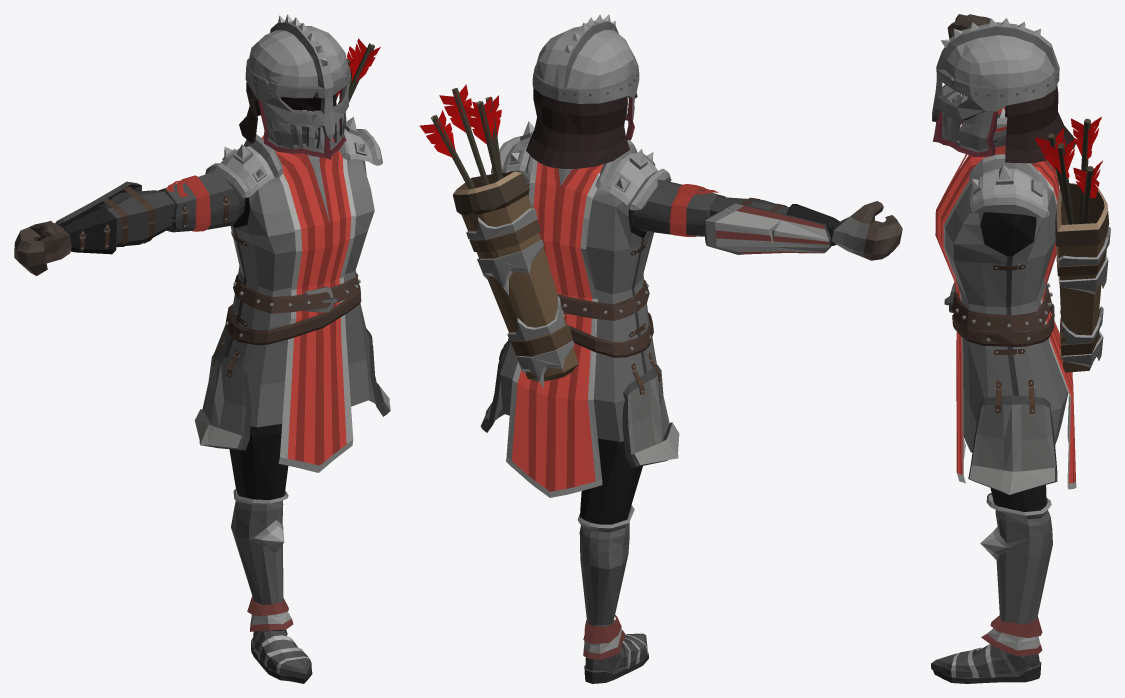
File: basicArmorFemale.glb
3 renders of one model, left to right at view 1: azimuth 30°, elevation 25°; view 2: azimuth 150°, elevation 25°; view 3: azimuth 270°, elevation 25°, orthographic. The views are drawn at different scales.
Visible parts, largest first — view 1: basicKnightArmorBody, basicKnightArmorHelmet, basicKnightArmorLowerLeg, basicKnightArmorLowerArm, basicKnightArmorBody.001, basicKnightArmorUpperArm, basicKnightArmorUpperLeg, KnightShoe, basicKnightArmorHandArm, basicKnightArmorBelt.001, basicKnightArmorBelt.002, basicQuiver; view 2: basicKnightArmorBody, basicQuiver, basicKnightArmorHelmet, basicKnightArmorLowerArm, basicKnightArmorLowerLeg, basicKnightArmorBody.001, basicKnightArmorUpperArm, basicKnightArmorUpperLeg, basicKnightArmorHandArm, KnightShoe, basicKnightArmorBelt.002, basicKnightArmorBelt.001; view 3: basicKnightArmorBody, basicKnightArmorHelmet, basicQuiver, basicKnightArmorLowerLeg, basicKnightArmorBody.001, KnightShoe, basicKnightArmorBelt.002, basicKnightArmorBelt.001, basicKnightArmorUpperLeg, basicKnightArmorHandArm, basicKnightArmorBelt, basicKnightArmorBody.002.
Part boxes in pixels (x1,y1,x2,y2): basicKnightArmorBody: (205, 117, 382, 472); basicKnightArmorHelmet: (239, 14, 350, 159); basicKnightArmorLowerLeg: (231, 489, 293, 631); basicKnightArmorLowerArm: (55, 181, 174, 254); basicKnightArmorBody.001: (194, 328, 390, 450); basicKnightArmorUpperArm: (158, 170, 245, 232); basicKnightArmorUpperLeg: (229, 424, 288, 503); KnightShoe: (251, 630, 312, 683); basicKnightArmorHandArm: (14, 221, 71, 275); basicKnightArmorBelt.001: (225, 285, 361, 344); basicKnightArmorBelt.002: (233, 271, 359, 313); basicQuiver: (306, 38, 380, 110); basicKnightArmorBody: (491, 121, 671, 497); basicQuiver: (419, 84, 578, 387); basicKnightArmorHelmet: (526, 14, 639, 168); basicKnightArmorLowerArm: (703, 197, 839, 254); basicKnightArmorLowerLeg: (577, 505, 634, 659); basicKnightArmorBody.001: (480, 338, 679, 468); basicKnightArmorUpperArm: (630, 179, 725, 236); basicKnightArmorUpperLeg: (580, 438, 642, 524); basicKnightArmorHandArm: (831, 201, 902, 260); KnightShoe: (584, 633, 648, 683); basicKnightArmorBelt.002: (557, 280, 649, 320); basicKnightArmorBelt.001: (569, 312, 653, 357); basicKnightArmorBody: (935, 108, 1076, 489); basicKnightArmorHelmet: (932, 18, 1075, 163); basicQuiver: (1035, 117, 1110, 372); basicKnightArmorLowerLeg: (980, 493, 1052, 656); basicKnightArmorBody.001: (968, 379, 1057, 494); KnightShoe: (931, 644, 1041, 683); basicKnightArmorBelt.002: (951, 284, 1051, 332); basicKnightArmorBelt.001: (952, 303, 1054, 346); basicKnightArmorUpperLeg: (990, 485, 1046, 511); basicKnightArmorHandArm: (947, 14, 990, 38); basicKnightArmorBelt: (944, 283, 1052, 341); basicKnightArmorBody.002: (993, 264, 1026, 354).
Bounding box in the file's own units: 1.32 × 1.94 × 0.4714.
